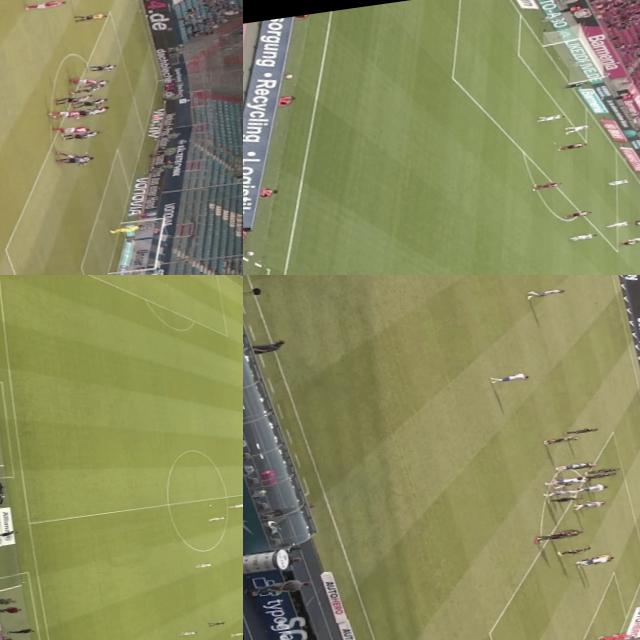ball: (208, 502, 214, 506)
player: (526, 284, 566, 301), (106, 220, 144, 236), (492, 371, 534, 385), (59, 149, 91, 167), (58, 152, 96, 167), (530, 176, 565, 192), (570, 497, 605, 513), (556, 544, 595, 558), (61, 128, 102, 141), (595, 629, 640, 640), (539, 530, 574, 544), (55, 92, 92, 105), (54, 124, 90, 137), (562, 461, 598, 474), (586, 462, 624, 474), (74, 81, 103, 96), (569, 423, 600, 437), (551, 474, 586, 486), (545, 434, 580, 446), (578, 555, 616, 566), (569, 229, 601, 242), (560, 473, 594, 485), (75, 104, 104, 118), (550, 528, 586, 539), (49, 108, 84, 119), (78, 105, 112, 116), (80, 94, 106, 108), (566, 206, 594, 219), (575, 481, 608, 492), (28, 0, 66, 9), (554, 492, 585, 503), (549, 487, 578, 498), (566, 122, 592, 134), (606, 176, 632, 188), (605, 218, 631, 230), (90, 62, 121, 72), (560, 140, 591, 150), (536, 112, 567, 122), (558, 461, 587, 471), (588, 470, 617, 480), (84, 77, 110, 86), (72, 76, 97, 85), (615, 238, 640, 247), (562, 80, 588, 88), (177, 628, 200, 637), (547, 270, 578, 275), (208, 514, 226, 522), (195, 562, 215, 568), (229, 630, 243, 637), (228, 501, 243, 507), (631, 233, 640, 241), (633, 218, 640, 226), (221, 514, 227, 516)
